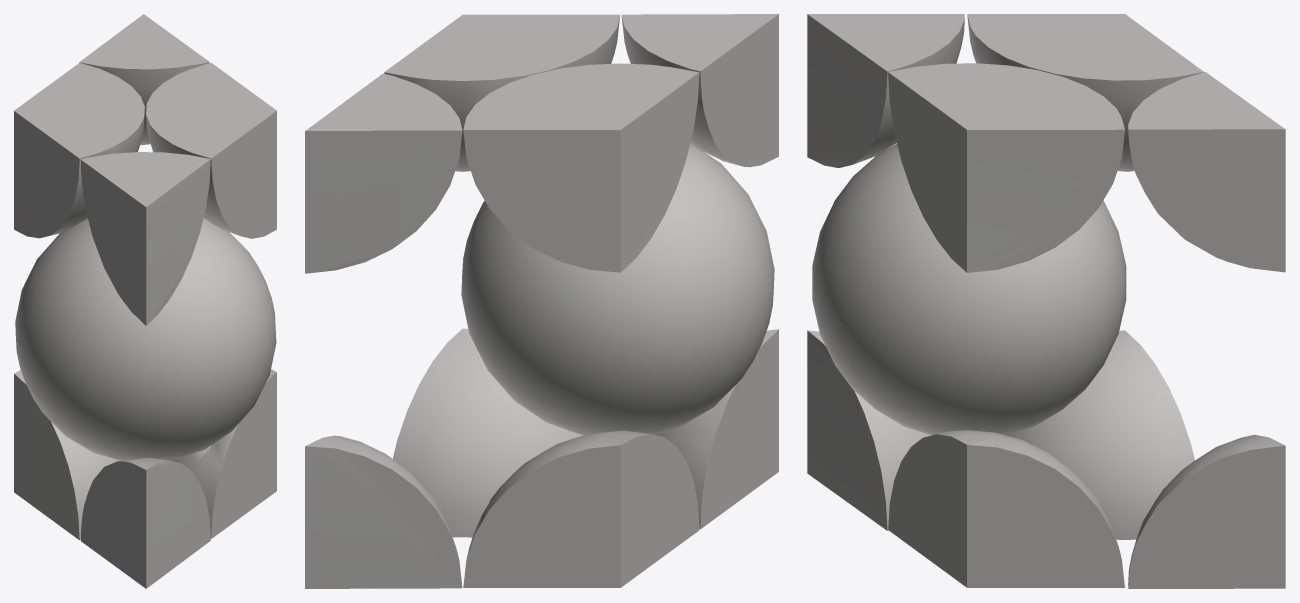
Rendered from liufang7_1.FBX.
3 renders of one model, left to right at view 1: azimuth 30°, elevation 25°; view 2: azimuth 150°, elevation 25°; view 3: azimuth 270°, elevation 25°, orthographic. The views are drawn at different scales.
Visible parts, largest first — view 1: 对象157; view 2: 对象157; view 3: 对象157.
Part boxes in pixels (x1,y1,x2,y2): 对象157: [14, 14, 276, 588]; 对象157: [305, 14, 778, 588]; 对象157: [807, 14, 1285, 588].
Size of the model in its own units: 42.83 by 64.19 by 60.58.
1 material, 1 textured.
